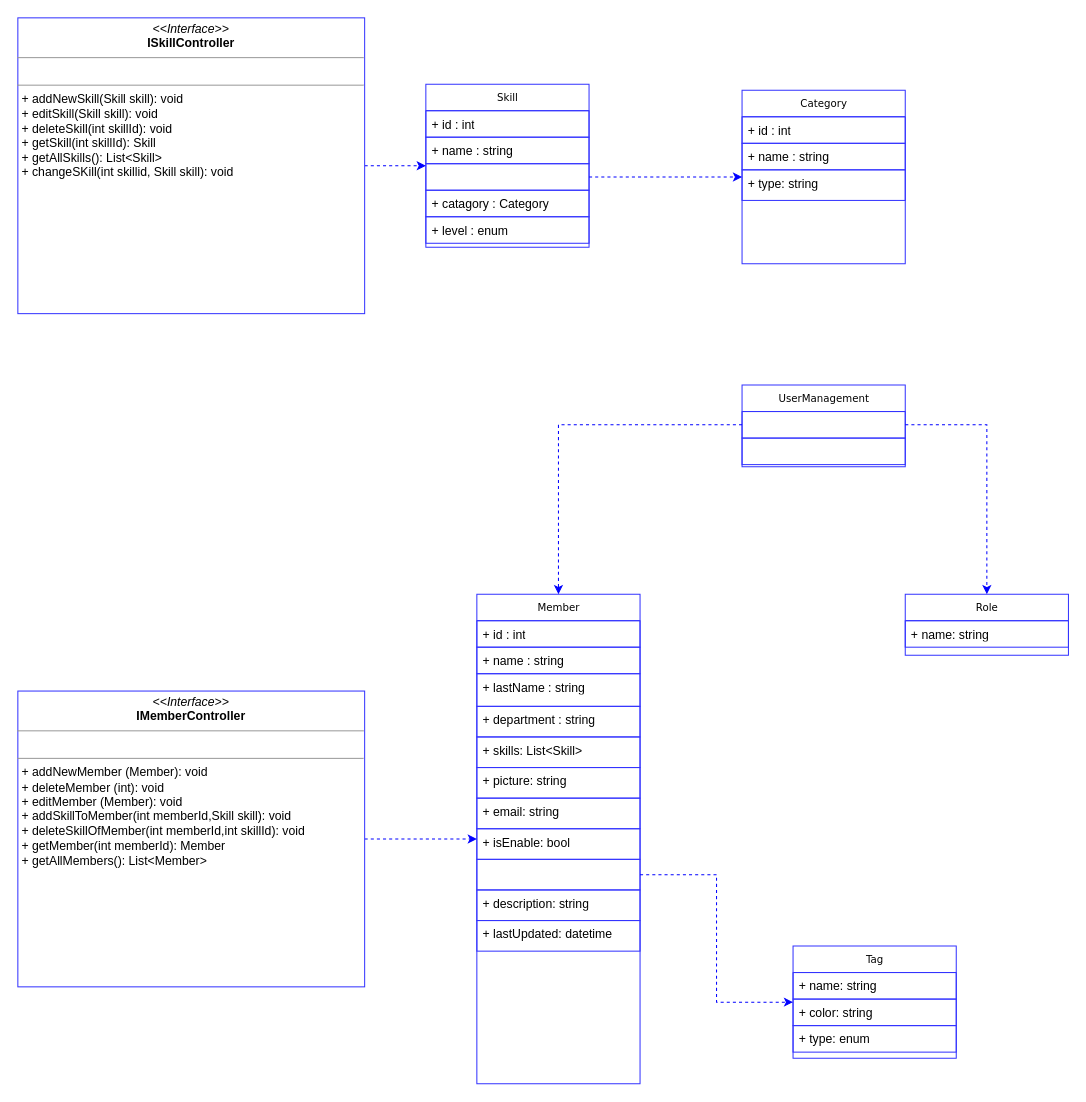
Image size: 1086x1102. Some labels were removed from this diagram. The centre of each missing label's shape, as x and y in pixels:
+ isLanguage : bool: the point at 507,176
+ member: Member: the point at 823,451
+ role: Role: the point at 823,424
+ tags: List<Tag>: the point at 558,874
